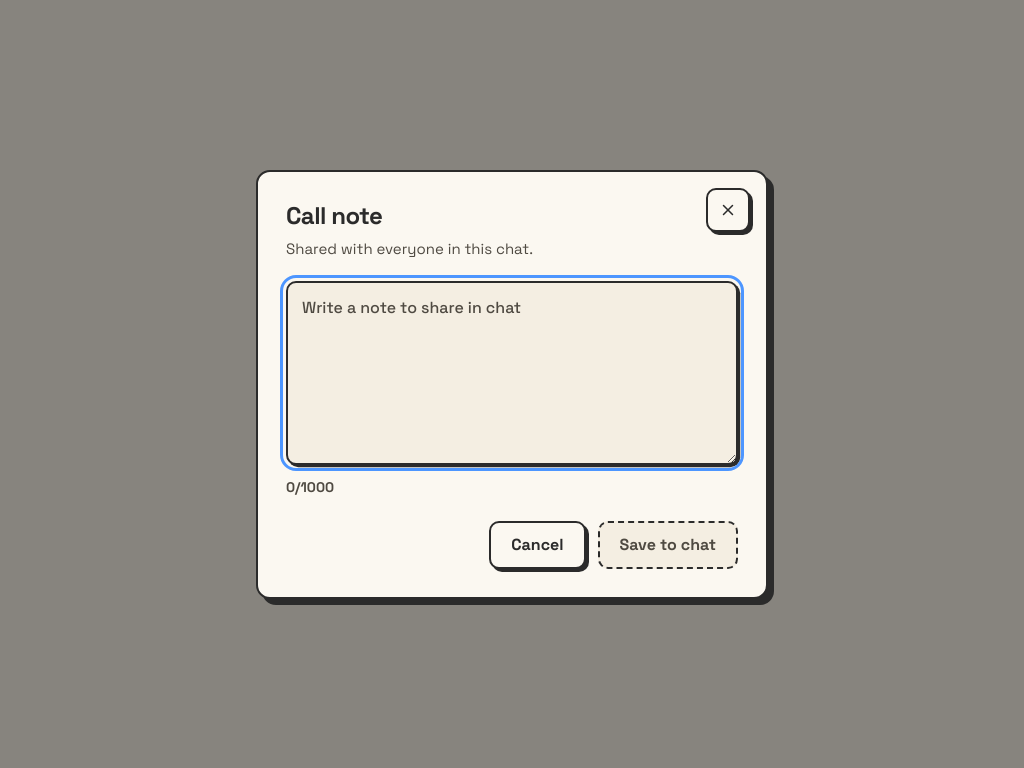
Test: CallNotePad › saves a trimmed note and shows confirmation
Expected: the button "Save to chat" is disabled, [598,520,738,568]
Type "  agenda: graphs  " into the text box labelled "note".
click(512, 372); type("  agenda: graphs  ")  # box [286,280,738,464]
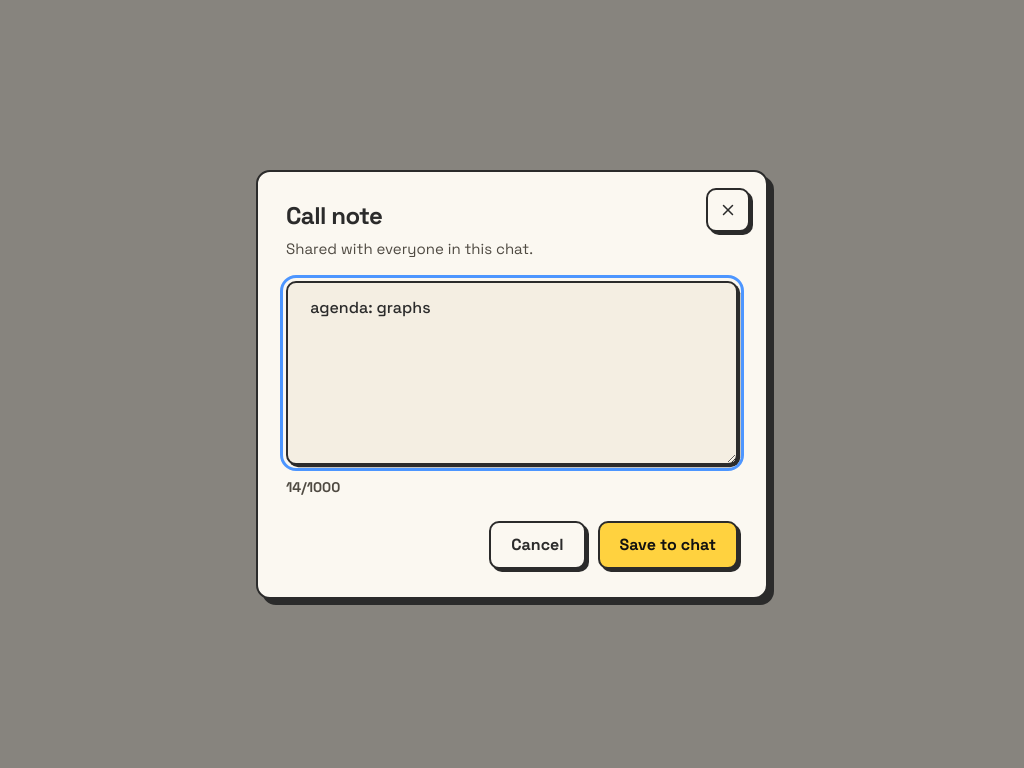
Click the button "Save to chat".
click(668, 544)  # box [598,520,738,568]
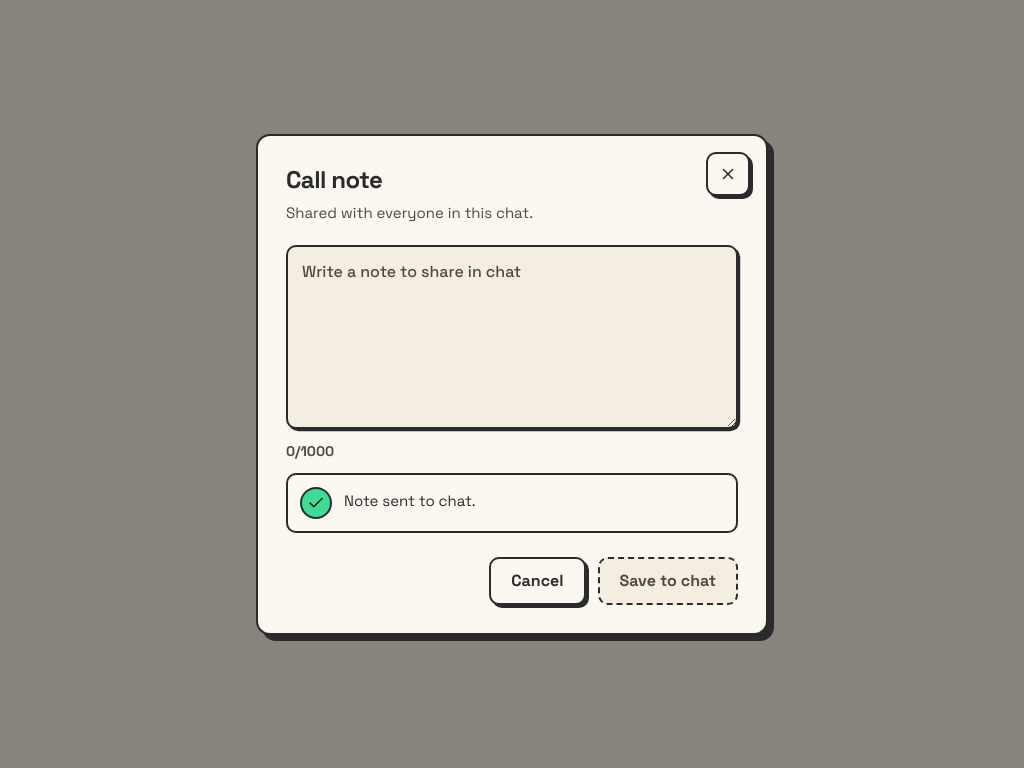
Expected: the text "Note sent to chat." is shown, [344,490,476,509]
